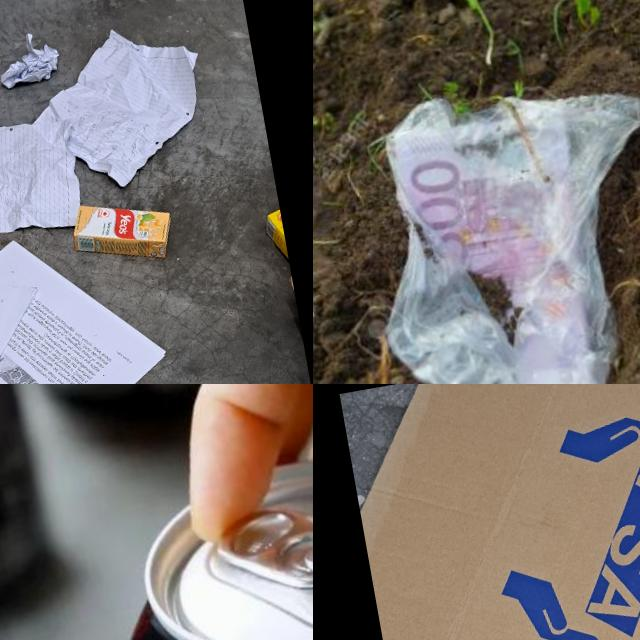aba de lata: (206, 491, 313, 602)
caixinha: (68, 190, 178, 274), (264, 207, 290, 273)
lata: (94, 436, 313, 640)
papel: (0, 205, 211, 384), (18, 14, 219, 201), (0, 107, 85, 255), (0, 28, 62, 90)
papelão: (339, 384, 640, 640)
sacola plástica: (344, 54, 640, 384)
